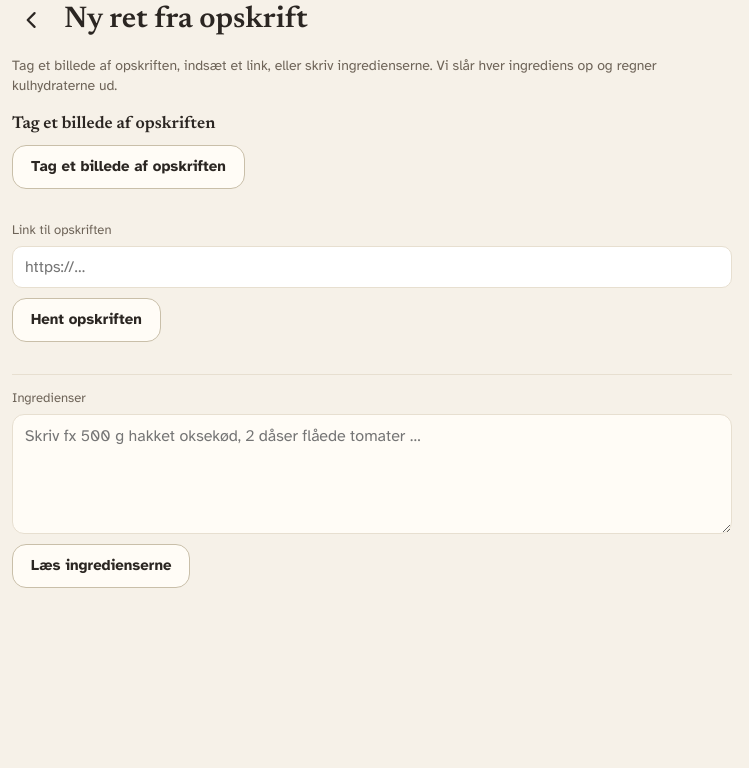
Test: RecipeScreen (/recipe/new) › shows the three ways in and reads pasted text only on the tap, then the lines with ca., the total and the yield
expect the button "Tag et billede af opskriften" is shown: met, box [12,145,245,189]
expect the field labelled "Link til opskriften" is shown: met, box [12,246,732,288]
In the text box labelled "Ingredienser": (372, 474) [12,414,732,534], type "250 g lasagneplader, 5 dl mælk, salt og peber"
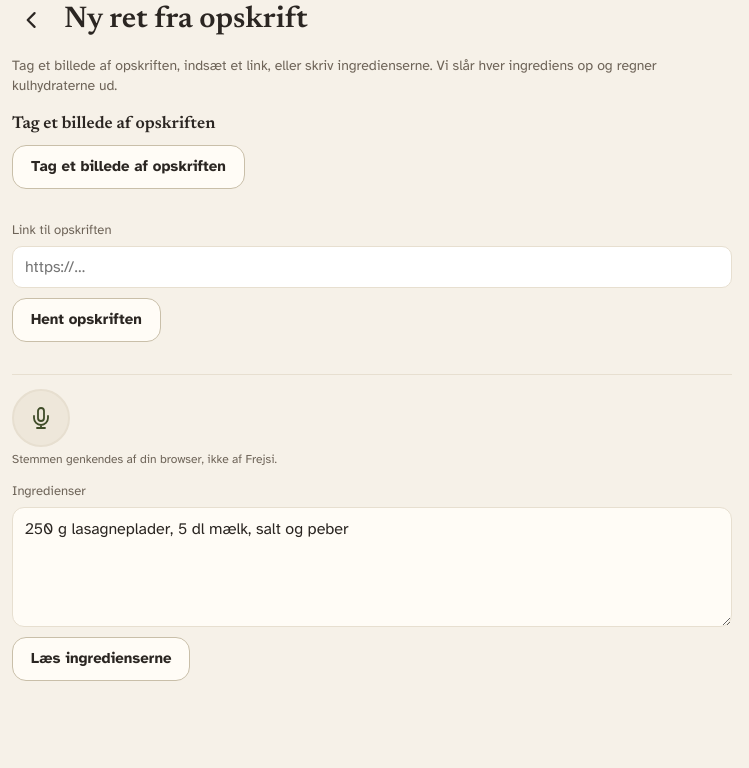
Click the button "Læs ingredienserne": (101, 659) [12,637,190,681]
(page scrolled)
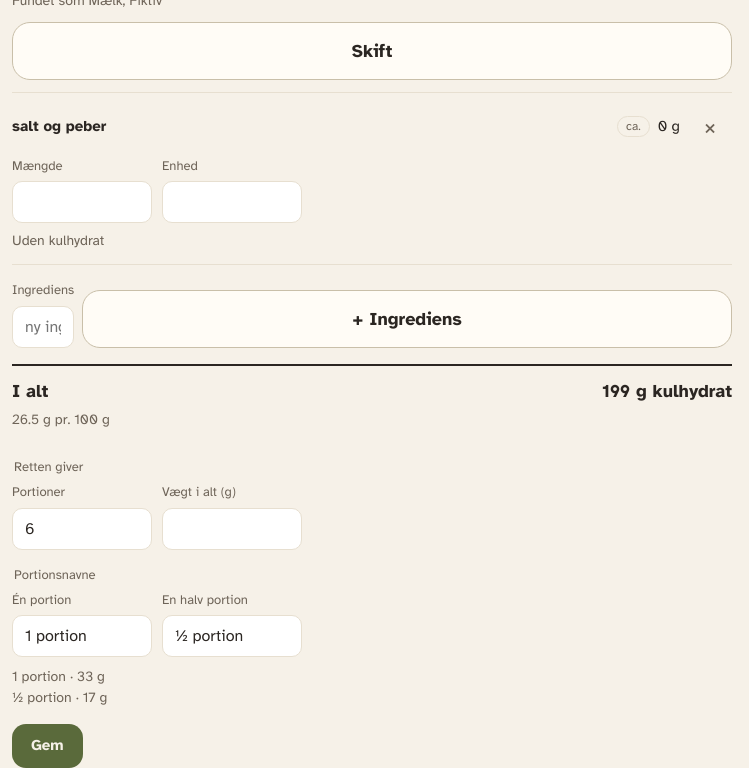
expect the number of elements with test id "ingredient-row" is 3: met
expect the text "Uden kulhydrat" is shown: met, box [12,232,104,250]
expect the text "199 g kulhydrat" is shown: met, box [602,378,732,404]
